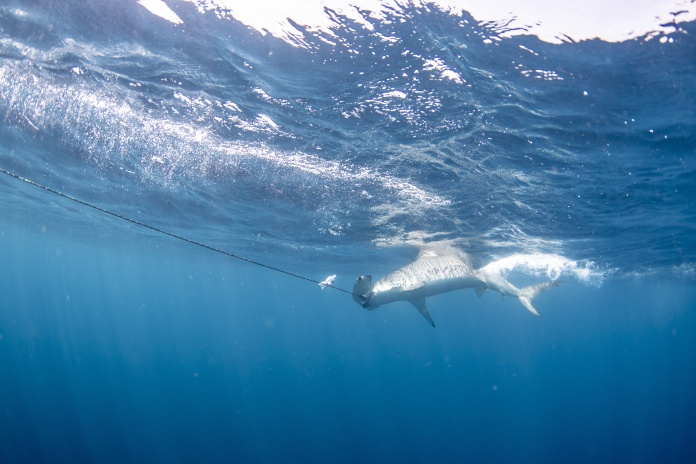Hammer: (315, 223, 563, 342)
